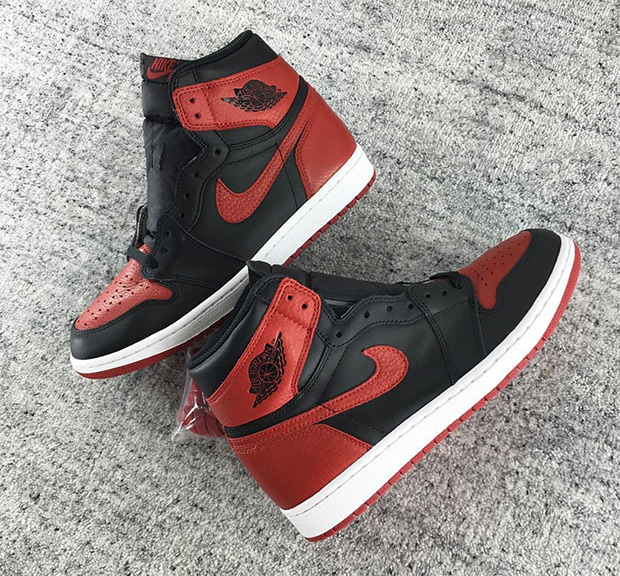Air Jordan 1 Bred: (165, 226, 583, 549), (60, 20, 379, 384)
